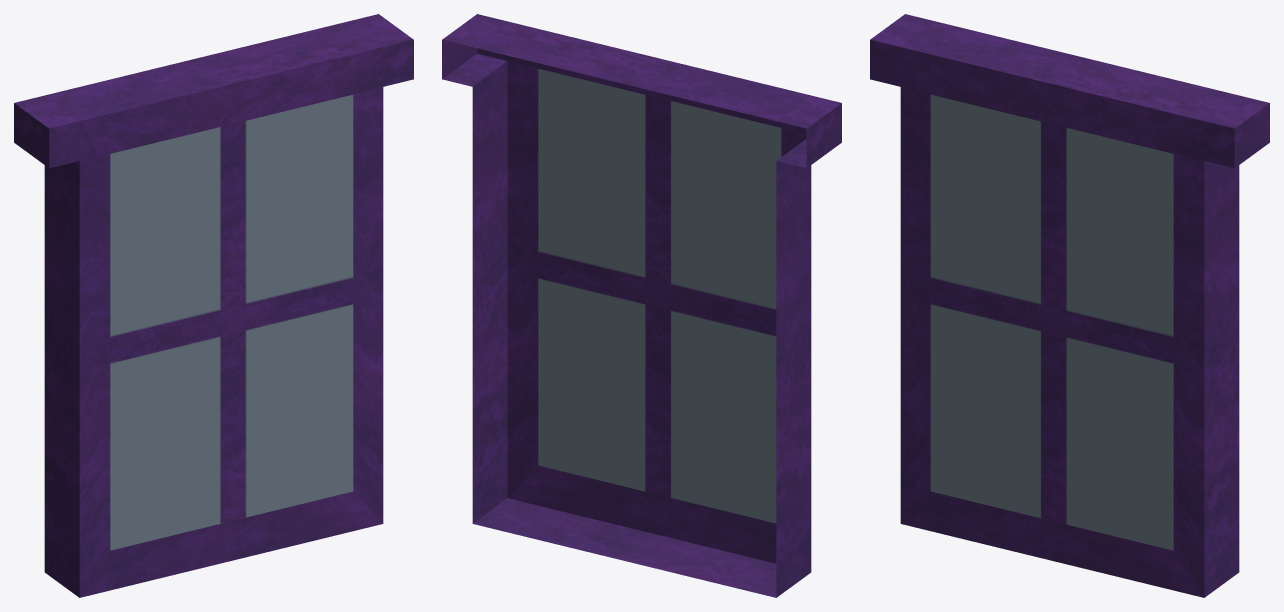
File: Window1LOD.fbx
The picture shows the model from 3 angles, left to right: view 1: azimuth 30°, elevation 25°; view 2: azimuth 150°, elevation 25°; view 3: azimuth 330°, elevation 25°; orthographic projection.
Parts seen in each view (by area): view 1: Window1_LOD1; view 2: Window1_LOD1; view 3: Window1_LOD1.
Part boxes in pixels (x1=…): Window1_LOD1: x1=14, y1=14, x2=413, y2=597; Window1_LOD1: x1=442, y1=14, x2=841, y2=597; Window1_LOD1: x1=870, y1=14, x2=1269, y2=597.
Size of the model in its own units: 120 by 150 by 20.11.
